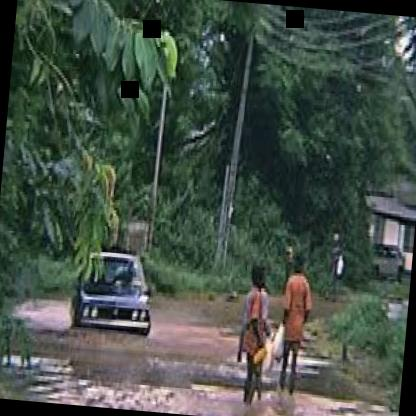car: (58, 232, 181, 359)
